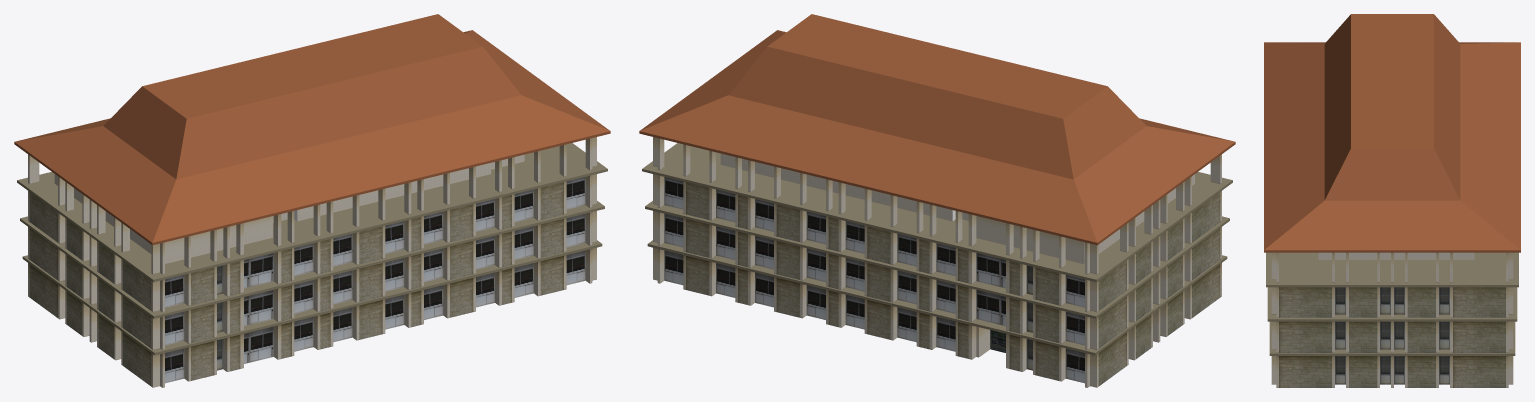
The model's file is ecom-uwa.fbx.
The picture shows the model from 3 angles, left to right: view 1: azimuth 30°, elevation 25°; view 2: azimuth 150°, elevation 25°; view 3: azimuth 270°, elevation 25°; orthographic projection. The views are drawn at different scales.
Visible parts, largest first — view 1: Group10, Group9, Group11, Group1, Group8, Group7, masonry_panel_14_1, masonry_panel_14_2, masonry_panel_14_5, masonry_panel_14_6, window_wide1, window_wide3 (+43 smaller); view 2: Group10, Group9, Group11, Group1, Group8, Group7, masonry_panel_14_1, masonry_panel_14_2, masonry_panel_14_6, masonry_panel_14_5, window_wide2, masonry_panel_14_9 (+43 smaller); view 3: Group10, Group9, Group8, masonry_panel_14_3, masonry_panel_14_4, masonry_panel_14_7, masonry_panel_14_8, masonry_panel_14_11, masonry_panel_14_12, Group7, Group11, Group1 (+18 smaller).
Boxes of the visible parts, x1,y1,x2,y2 form: Group10: (14,14,610,245); Group9: (17,143,607,282); Group11: (28,137,596,274); Group1: (54,154,524,263); Group8: (20,201,604,318); Group7: (22,240,602,355); masonry_panel_14_1: (123,332,151,386); masonry_panel_14_2: (29,264,57,317); masonry_panel_14_5: (123,296,151,348); masonry_panel_14_6: (29,228,57,280); window_wide1: (244,326,273,363); window_wide3: (244,290,273,326); Group10: (639,14,1235,245); Group9: (642,143,1232,282); Group11: (653,137,1221,274); Group1: (720,153,1194,264); Group8: (645,201,1229,318); Group7: (647,240,1227,355); masonry_panel_14_1: (1192,264,1220,317); masonry_panel_14_2: (1098,332,1126,386); masonry_panel_14_6: (1098,296,1126,348); masonry_panel_14_5: (1192,228,1220,280); window_wide2: (976,290,1005,326); masonry_panel_14_9: (1192,192,1220,242); Group10: (1264,14,1520,252); Group9: (1266,252,1518,287); Group8: (1267,287,1517,321); masonry_panel_14_3: (1279,356,1331,387); masonry_panel_14_4: (1453,356,1505,387); masonry_panel_14_7: (1279,321,1331,352); masonry_panel_14_8: (1453,321,1505,352); masonry_panel_14_11: (1279,287,1331,317); masonry_panel_14_12: (1453,287,1505,317); Group7: (1269,321,1515,355); Group11: (1271,252,1513,282); Group1: (1318,252,1474,259).
Size of what is drawn, in the model's own units: 1560 by 721 by 815.
